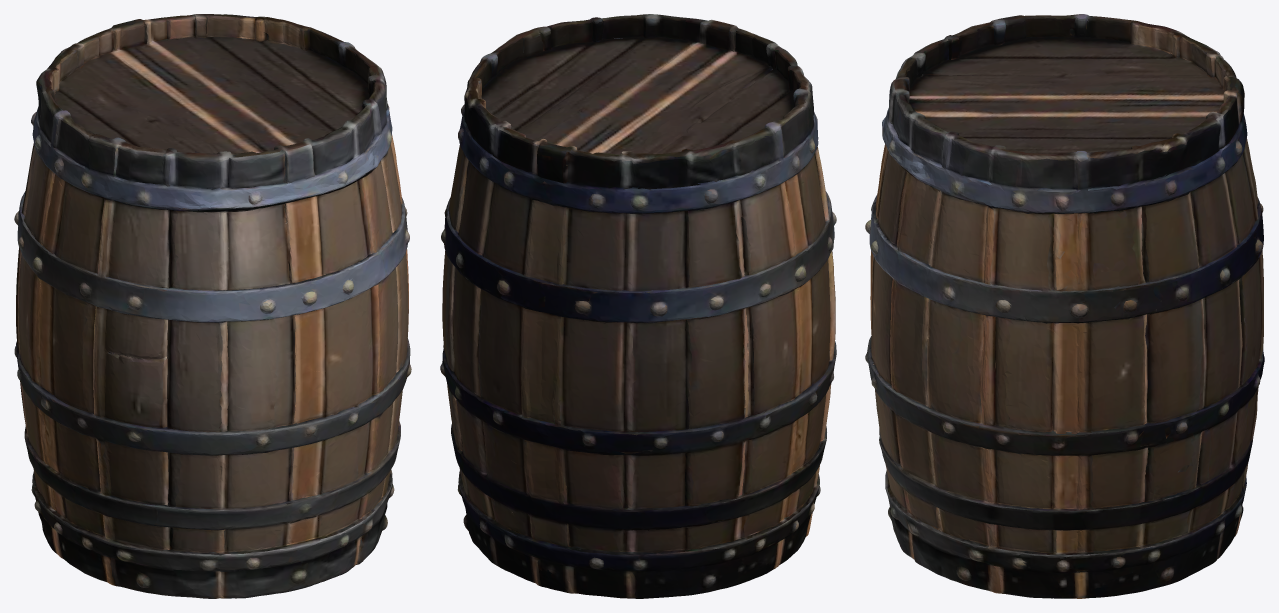
The model's file is combat_broken_barrel_01.glb.
3 renders of one model, left to right at view 1: azimuth 30°, elevation 25°; view 2: azimuth 150°, elevation 25°; view 3: azimuth 270°, elevation 25°, orthographic.
Visible parts, largest first — view 1: geometry_0; view 2: geometry_0; view 3: geometry_0.
Boxes of the visible parts, x1,y1,x2,y2 form: geometry_0: (14, 14, 411, 598); geometry_0: (440, 14, 836, 598); geometry_0: (865, 14, 1264, 598).
Size of the model in its own units: 0.8127 by 1 by 0.812.
Materials: 1 (1 with a texture image).
